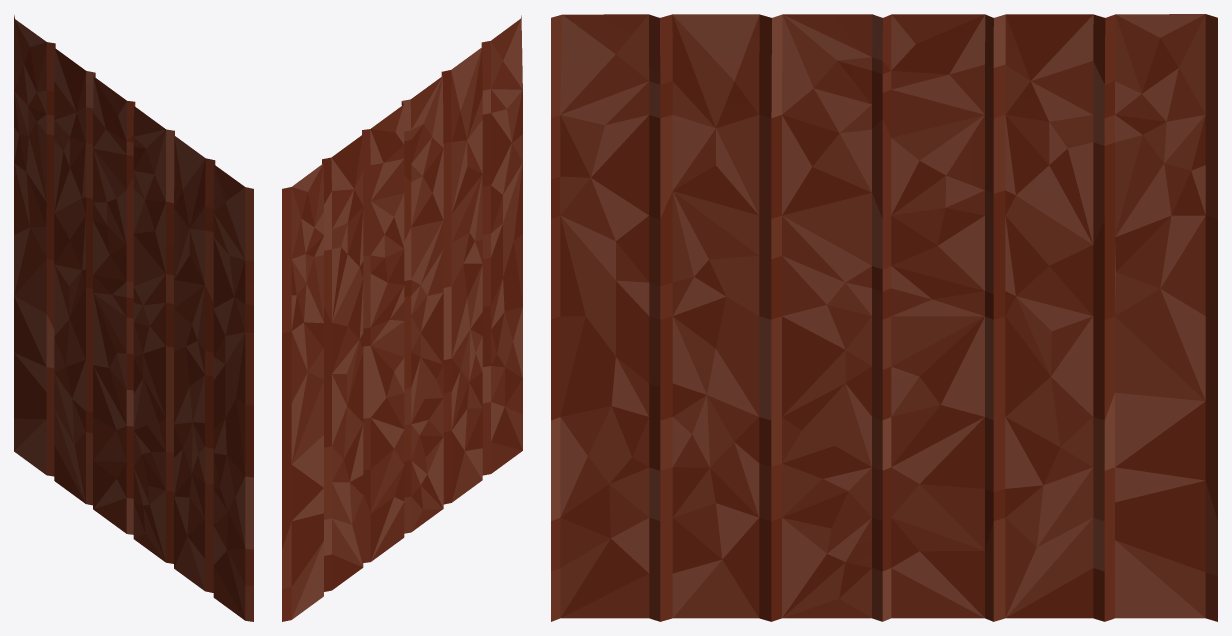
Rendered from Wall_C.fbx.
3 views of the same model, side by side, from view 1: azimuth 30°, elevation 25°; view 2: azimuth 150°, elevation 25°; view 3: azimuth 270°, elevation 25° (orthographic). The views are drawn at different scales.
Parts seen in each view (by area): view 1: polySurface3663; view 2: polySurface3663; view 3: polySurface3663.
Part boxes in pixels (x1,y1,x2,y2): polySurface3663: (14, 15, 253, 621); polySurface3663: (282, 15, 522, 621); polySurface3663: (551, 14, 1217, 621).
Size of the model in its own units: 5.4 by 400 by 400.
